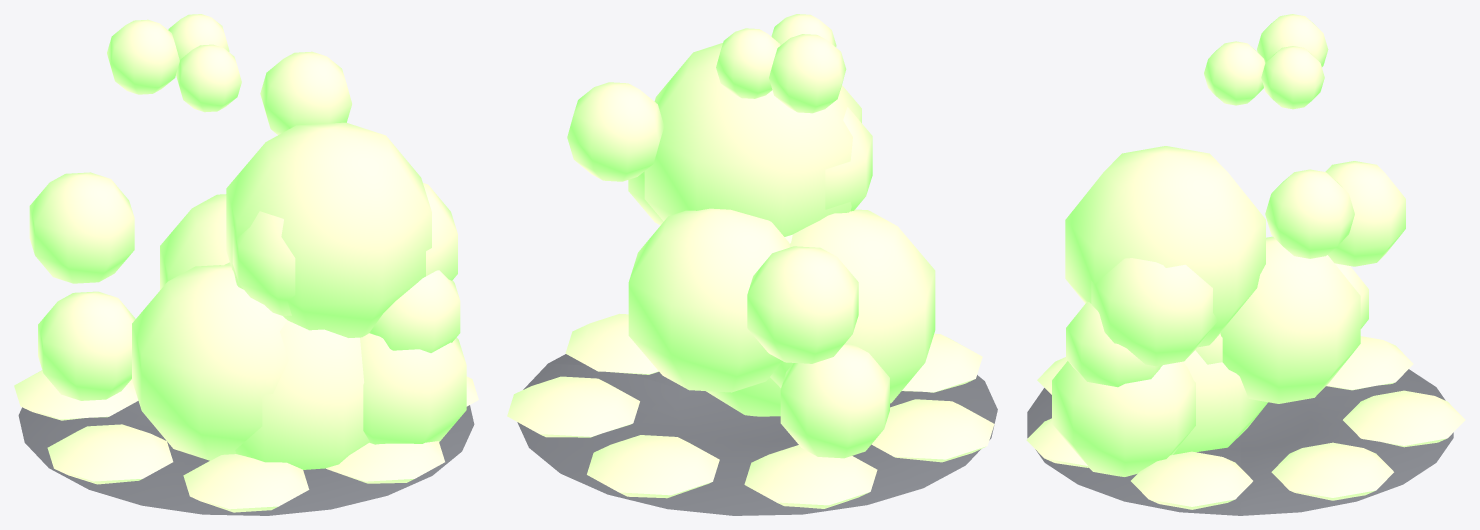
File: vfx-mesh-library-poison-cloud-lobes-98bd82cd__21894.glb
3 renders of one model, left to right at view 1: azimuth 30°, elevation 25°; view 2: azimuth 150°, elevation 25°; view 3: azimuth 270°, elevation 25°, orthographic. The views are drawn at different scales.
Visible parts, largest first — view 1: poison-cloud-lobes; view 2: poison-cloud-lobes; view 3: poison-cloud-lobes.
Boxes of the visible parts, left/top/right/bottom form: poison-cloud-lobes: left=14, top=14, right=478, bottom=515; poison-cloud-lobes: left=507, top=14, right=997, bottom=515; poison-cloud-lobes: left=1026, top=14, right=1465, bottom=515.
Size of the model in its own units: 0.8621 by 0.8852 by 0.8571.
